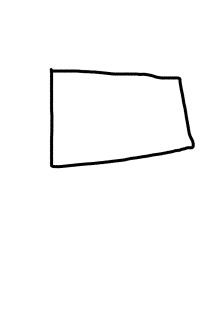Square: (45, 64, 196, 170)
